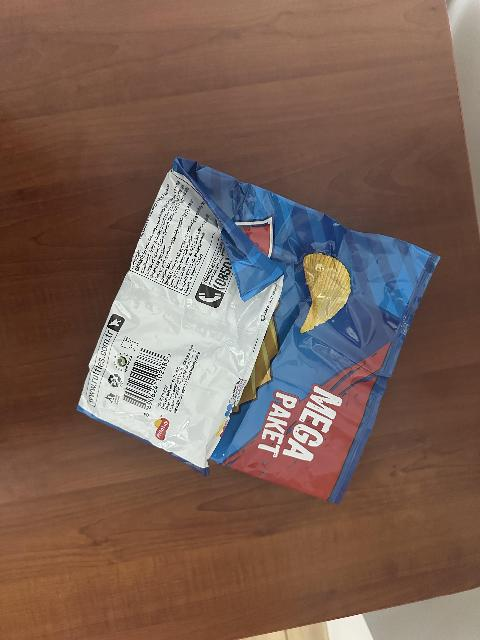Plastik: (75, 156, 441, 503)
